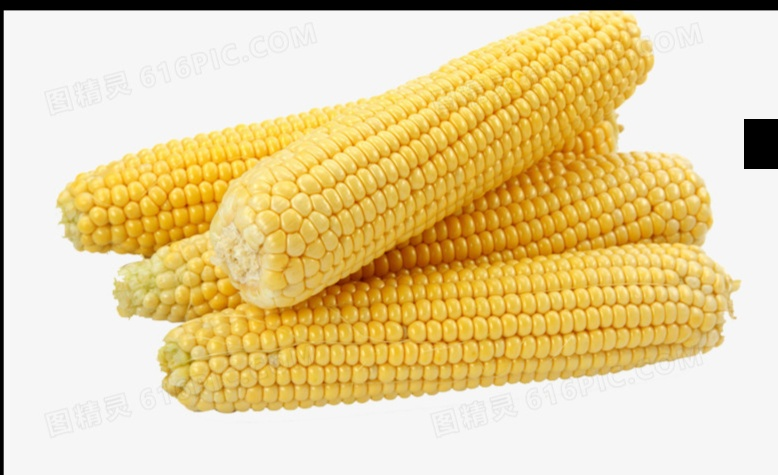corn: (233, 12, 643, 293), (51, 53, 626, 253), (115, 147, 713, 320), (178, 240, 733, 414)
